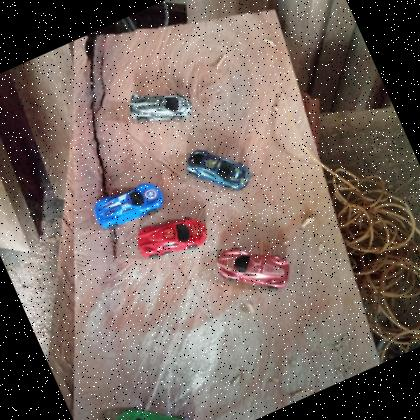Car: (210, 227, 299, 311), (129, 202, 214, 271), (180, 132, 257, 208), (122, 72, 198, 140), (88, 174, 170, 236), (103, 385, 204, 420)
